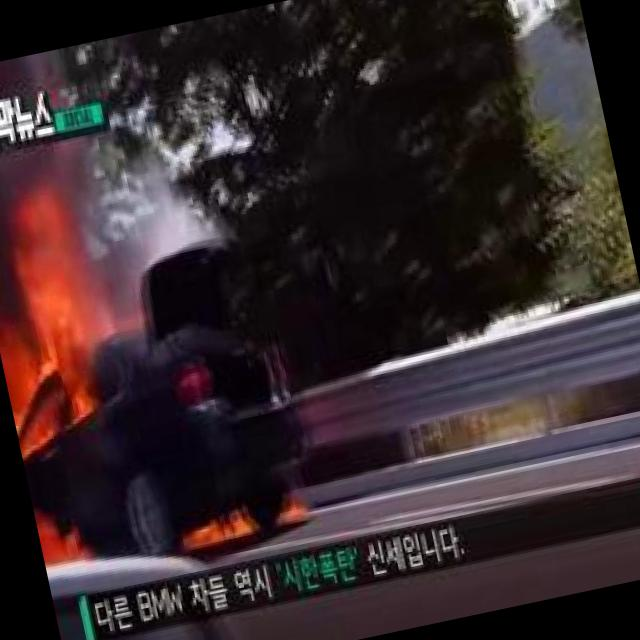Fire: (0, 232, 116, 435), (36, 506, 106, 568)
Smoke: (0, 129, 109, 244), (0, 47, 73, 103)
